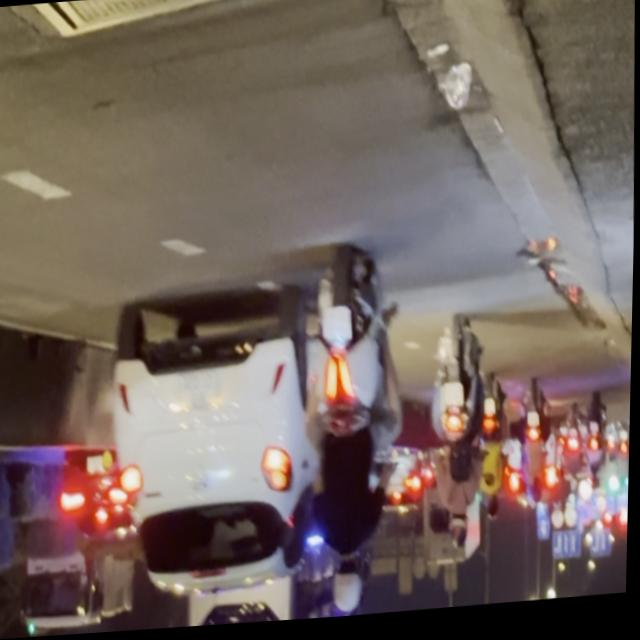helmet: (331, 559, 365, 622)
licenseplate: (294, 238, 407, 624)
nohelmet: (322, 308, 354, 346)
